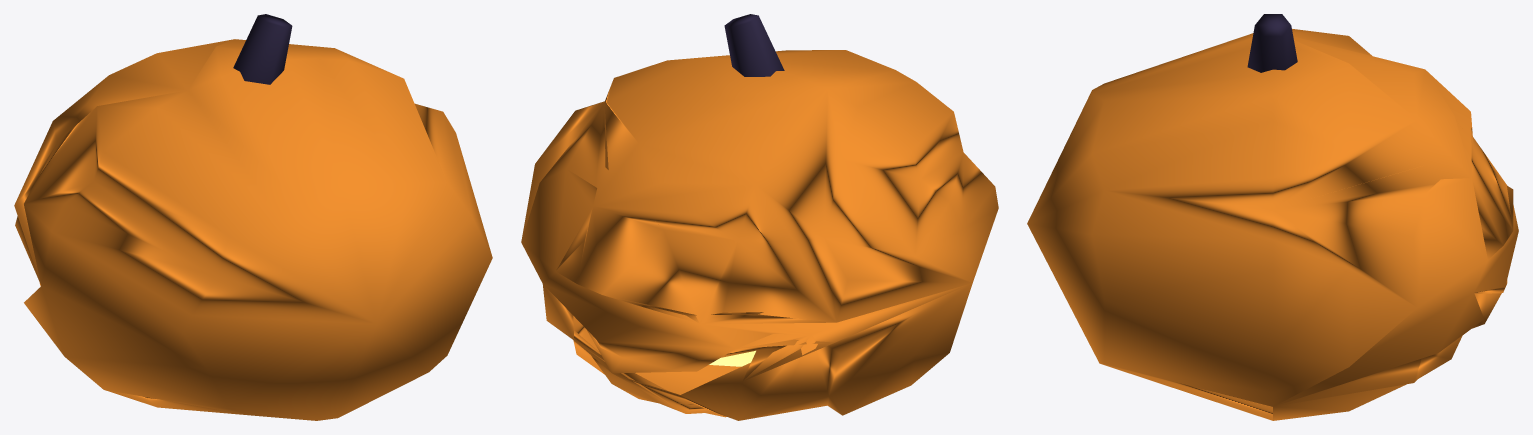
The model's file is pumpkin_small_a_low.glb.
3 views of the same model, side by side, from view 1: azimuth 30°, elevation 25°; view 2: azimuth 150°, elevation 25°; view 3: azimuth 270°, elevation 25° (orthographic).
Bounding box in the file's own units: 0.4472 × 0.3858 × 0.4498.
